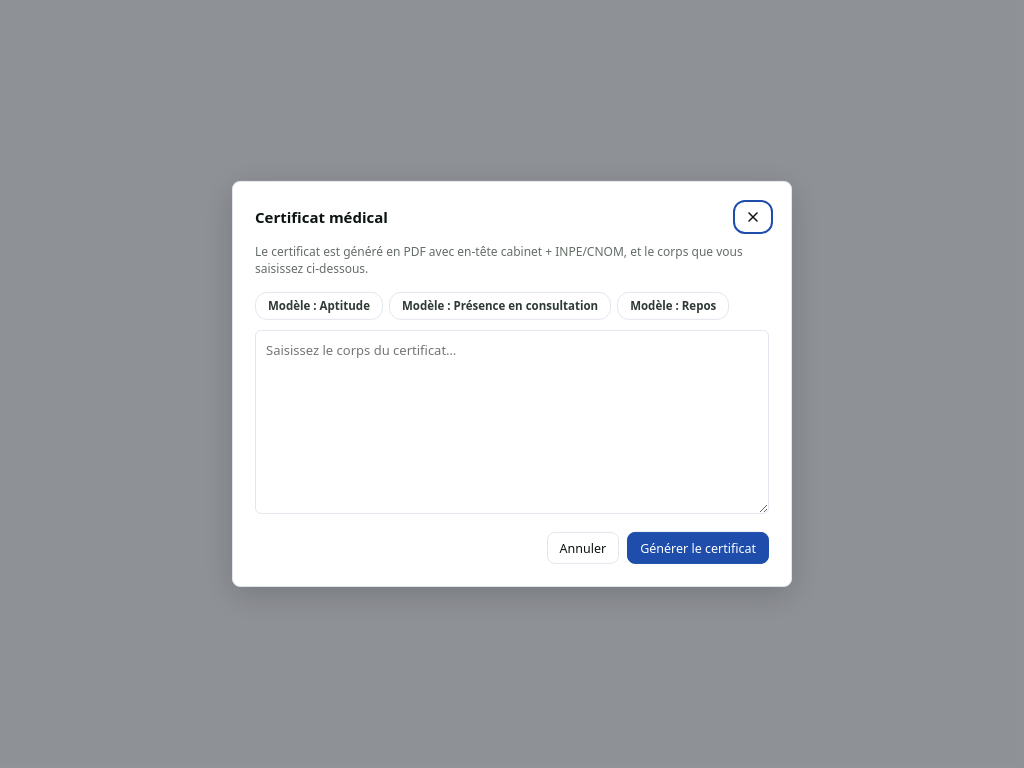
it: <CertificatDialog /> — F10 modèle Repos › affiche les champs structurés quand le modèle "Repos" est sélectionné
Step 1. Click the button "Modèle : Repos" → (673, 306), box [617, 292, 729, 320]
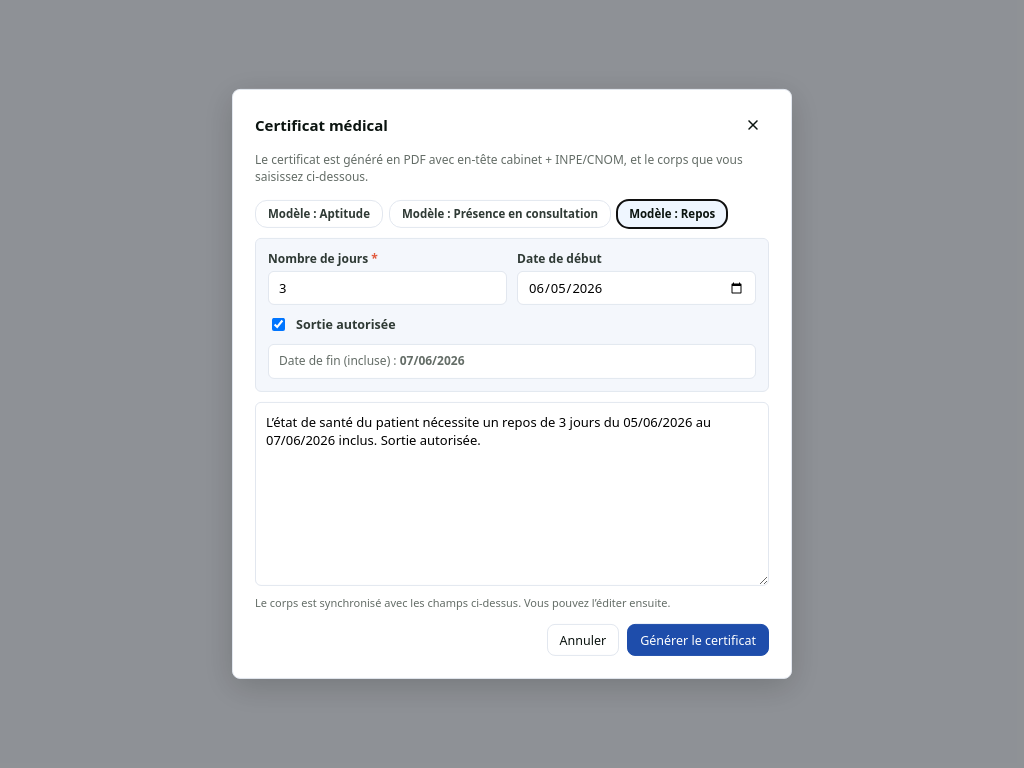
Expected: the element with test id "rest-fields" is shown, [255, 238, 769, 392]
Expected: the number field named "Nombre de jours de repos" is shown, [268, 271, 507, 305]
Expected: the date field named "Date de début du repos" is shown, [517, 271, 756, 305]
